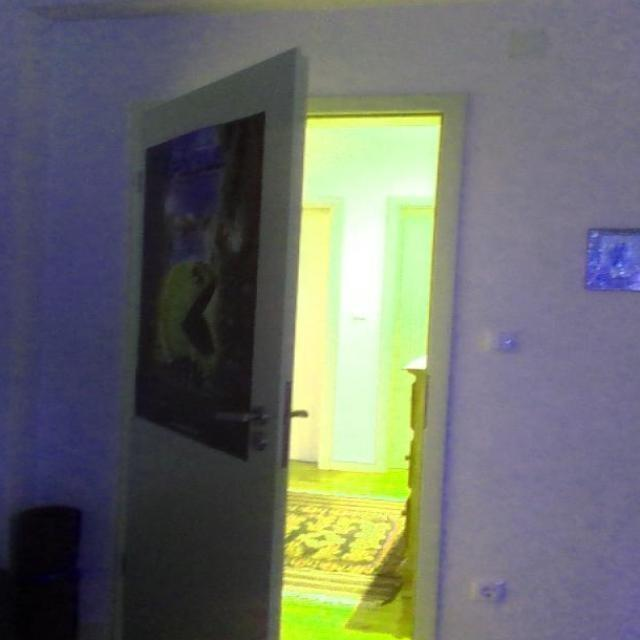door: (116, 37, 317, 640)
